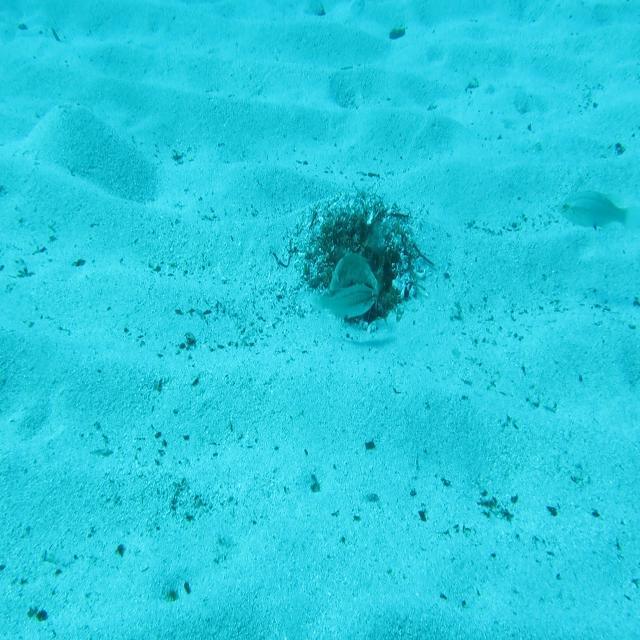DAN_CIRC: (326, 245, 391, 312)
female: (308, 279, 379, 325)
nest: (307, 184, 426, 324)
other_fish: (554, 180, 640, 238)
